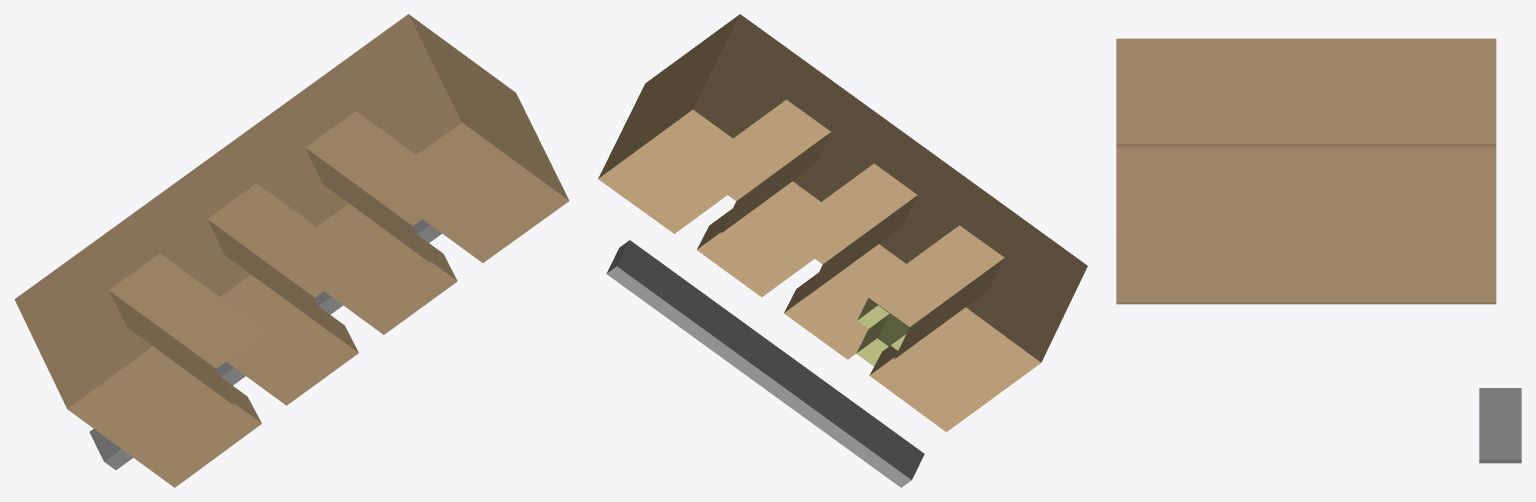
3 renders of one model, left to right at view 1: azimuth 30°, elevation 25°; view 2: azimuth 150°, elevation 25°; view 3: azimuth 270°, elevation 25°, orthographic. The views are drawn at different scales.
Parts seen in each view (by area): view 1: 0_3_0_1_2_1_0_1; view 2: 0_3_0_1_2_1_0_1; view 3: 0_3_0_1_2_1_0_1.
Boxes of the visible parts, bbox=[...] form: 0_3_0_1_2_1_0_1: bbox=[14, 14, 569, 487]; 0_3_0_1_2_1_0_1: bbox=[598, 14, 1087, 487]; 0_3_0_1_2_1_0_1: bbox=[1116, 38, 1521, 463].
Bounding box in the file's own units: 64.85 × 52.68 × 28.8.
